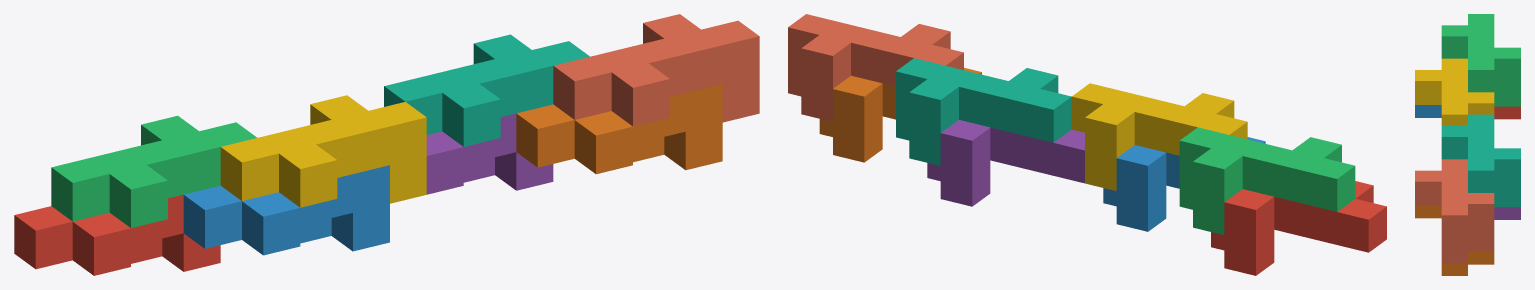
Rendered from tiling.obj.
3 renders of one model, left to right at view 1: azimuth 30°, elevation 25°; view 2: azimuth 150°, elevation 25°; view 3: azimuth 270°, elevation 25°, orthographic. The views are drawn at different scales.
Parts seen in each view (by area): view 1: copy_1_domain_8, copy_1_domain_4, copy_1_domain_3, copy_1_domain_6, copy_1_domain_2, copy_1_domain_7, copy_1_domain_1, copy_1_domain_5; view 2: copy_1_domain_3, copy_1_domain_7, copy_1_domain_8, copy_1_domain_4, copy_1_domain_1, copy_1_domain_5, copy_1_domain_2, copy_1_domain_6; view 3: copy_1_domain_8, copy_1_domain_7, copy_1_domain_3, copy_1_domain_4, copy_1_domain_6, copy_1_domain_1, copy_1_domain_2, copy_1_domain_5.
Part boxes in pixels (x1,y1,x2,y2): copy_1_domain_8: (553,14,759,126); copy_1_domain_4: (220,95,426,207); copy_1_domain_3: (51,115,257,228); copy_1_domain_6: (516,84,722,174); copy_1_domain_2: (183,165,389,255); copy_1_domain_7: (384,34,589,146); copy_1_domain_1: (14,194,220,275); copy_1_domain_5: (426,113,553,194); copy_1_domain_3: (1179,127,1355,234); copy_1_domain_7: (896,58,1071,165); copy_1_domain_8: (788,14,963,121); copy_1_domain_4: (1071,83,1247,190); copy_1_domain_1: (1211,181,1386,275); copy_1_domain_5: (927,120,1084,206); copy_1_domain_2: (1103,137,1265,231); copy_1_domain_6: (819,68,981,162); copy_1_domain_8: (1415,159,1494,263); copy_1_domain_7: (1441,114,1520,207); copy_1_domain_3: (1441,14,1520,106); copy_1_domain_4: (1415,58,1494,125); copy_1_domain_6: (1415,205,1494,275); copy_1_domain_1: (1494,106,1520,119); copy_1_domain_2: (1415,105,1441,117); copy_1_domain_5: (1494,207,1520,219).
Bounding box in the file's own units: 19 × 3 × 4.
